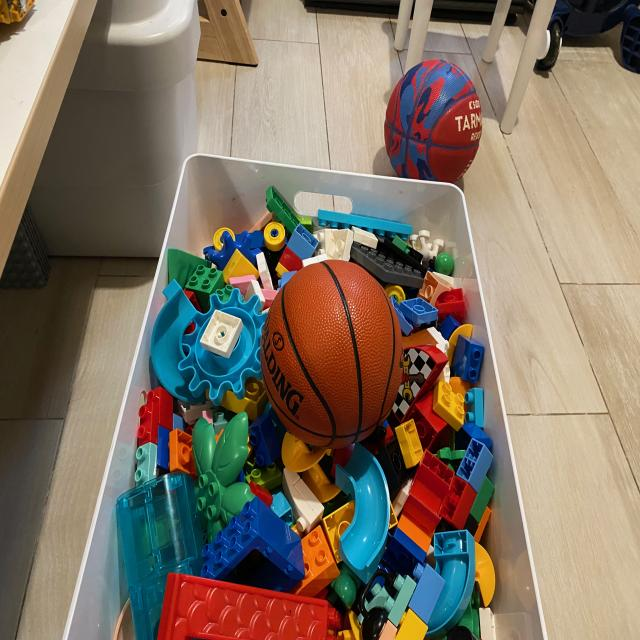Ball: (252, 249, 414, 460)
